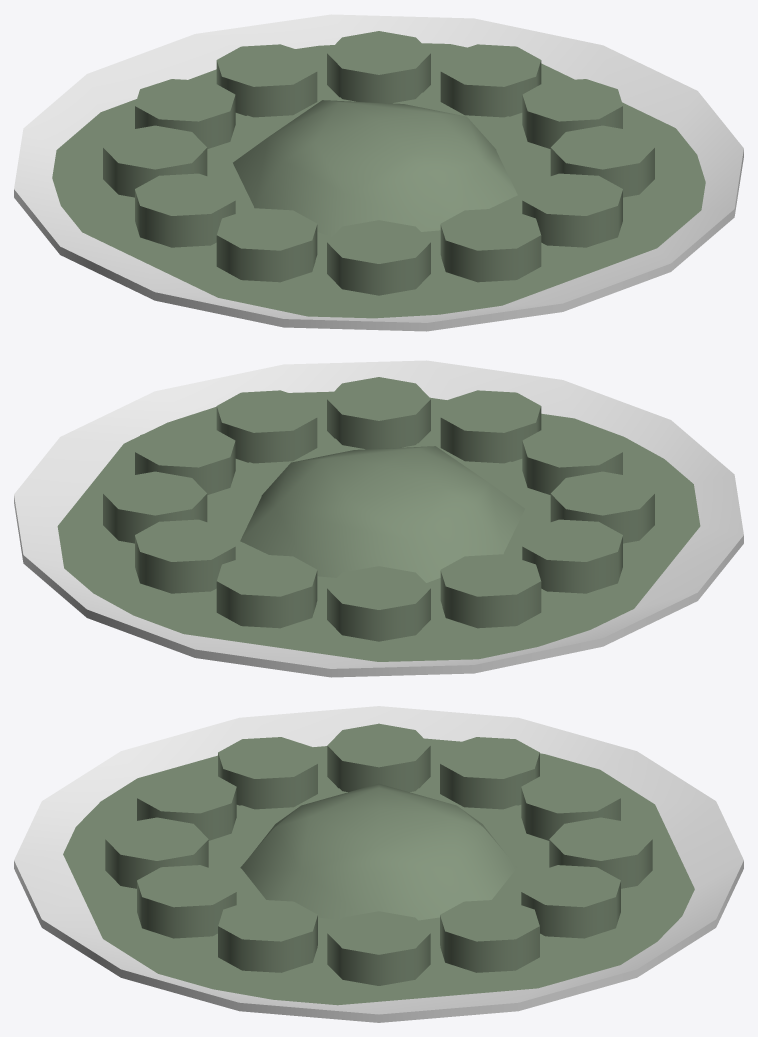
The model's file is ZCZH002.FBX.
3 renders of one model, top to bottom at view 1: azimuth 30°, elevation 25°; view 2: azimuth 150°, elevation 25°; view 3: azimuth 270°, elevation 25°, orthographic.
Parts seen in each view (by area): view 1: ZCZH002; view 2: ZCZH002; view 3: ZCZH002.
Part boxes in pixels (bbox=[...]): ZCZH002: bbox=[14, 14, 743, 331]; ZCZH002: bbox=[14, 360, 743, 677]; ZCZH002: bbox=[14, 706, 743, 1022].
Size of the model in its own units: 14.95 by 14.95 by 2.52.
